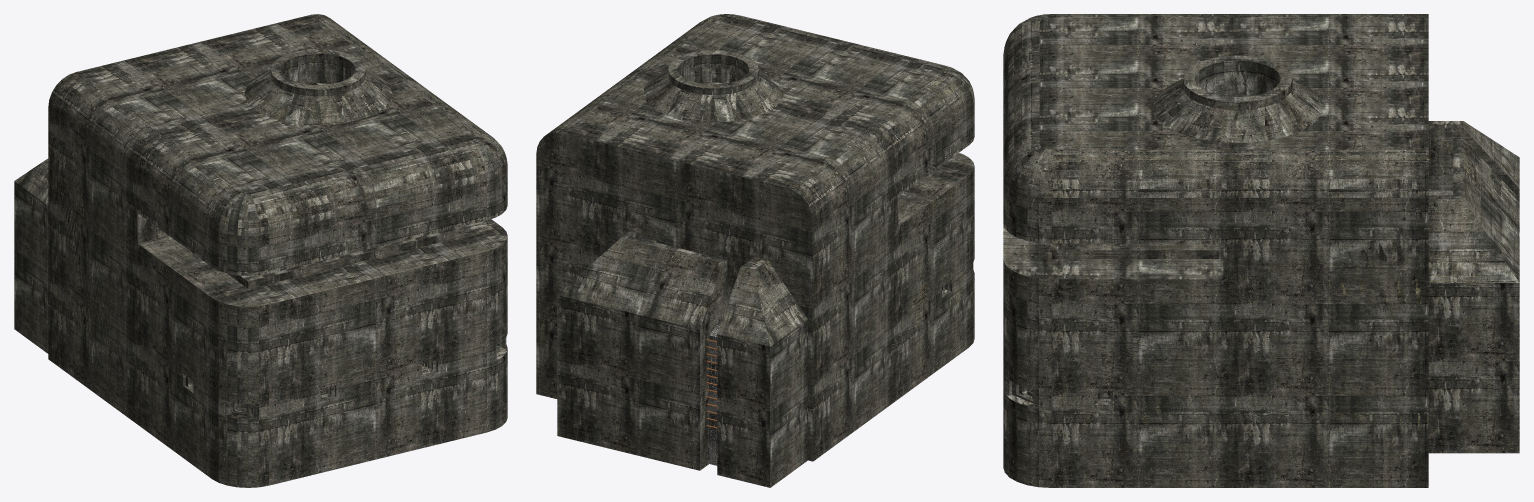
The model's file is bunker.fbx.
3 views of the same model, side by side, from view 1: azimuth 30°, elevation 25°; view 2: azimuth 150°, elevation 25°; view 3: azimuth 270°, elevation 25° (orthographic). The views are drawn at different scales.
Parts seen in each view (by area): view 1: Group1; view 2: Group1; view 3: Group1.
Boxes of the visible parts, x1=… form: Group1: x1=14, y1=14, x2=507, y2=487; Group1: x1=536, y1=14, x2=974, y2=487; Group1: x1=1003, y1=14, x2=1519, y2=487.
Size of the model in its own units: 558 by 561 by 747.
